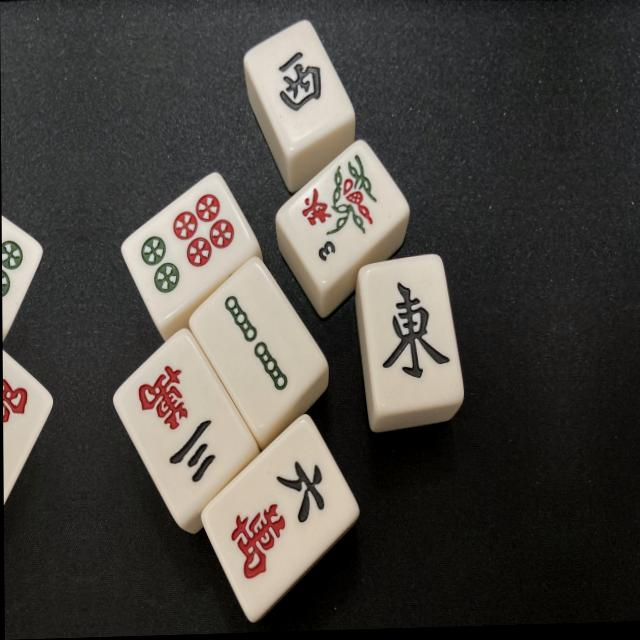east: (360, 260, 459, 412)
ff3: (276, 140, 407, 292)
m3: (112, 326, 263, 525)
m6: (199, 416, 360, 624)
s2: (182, 255, 323, 441)
t6: (123, 172, 262, 329)
west: (246, 22, 351, 146)
